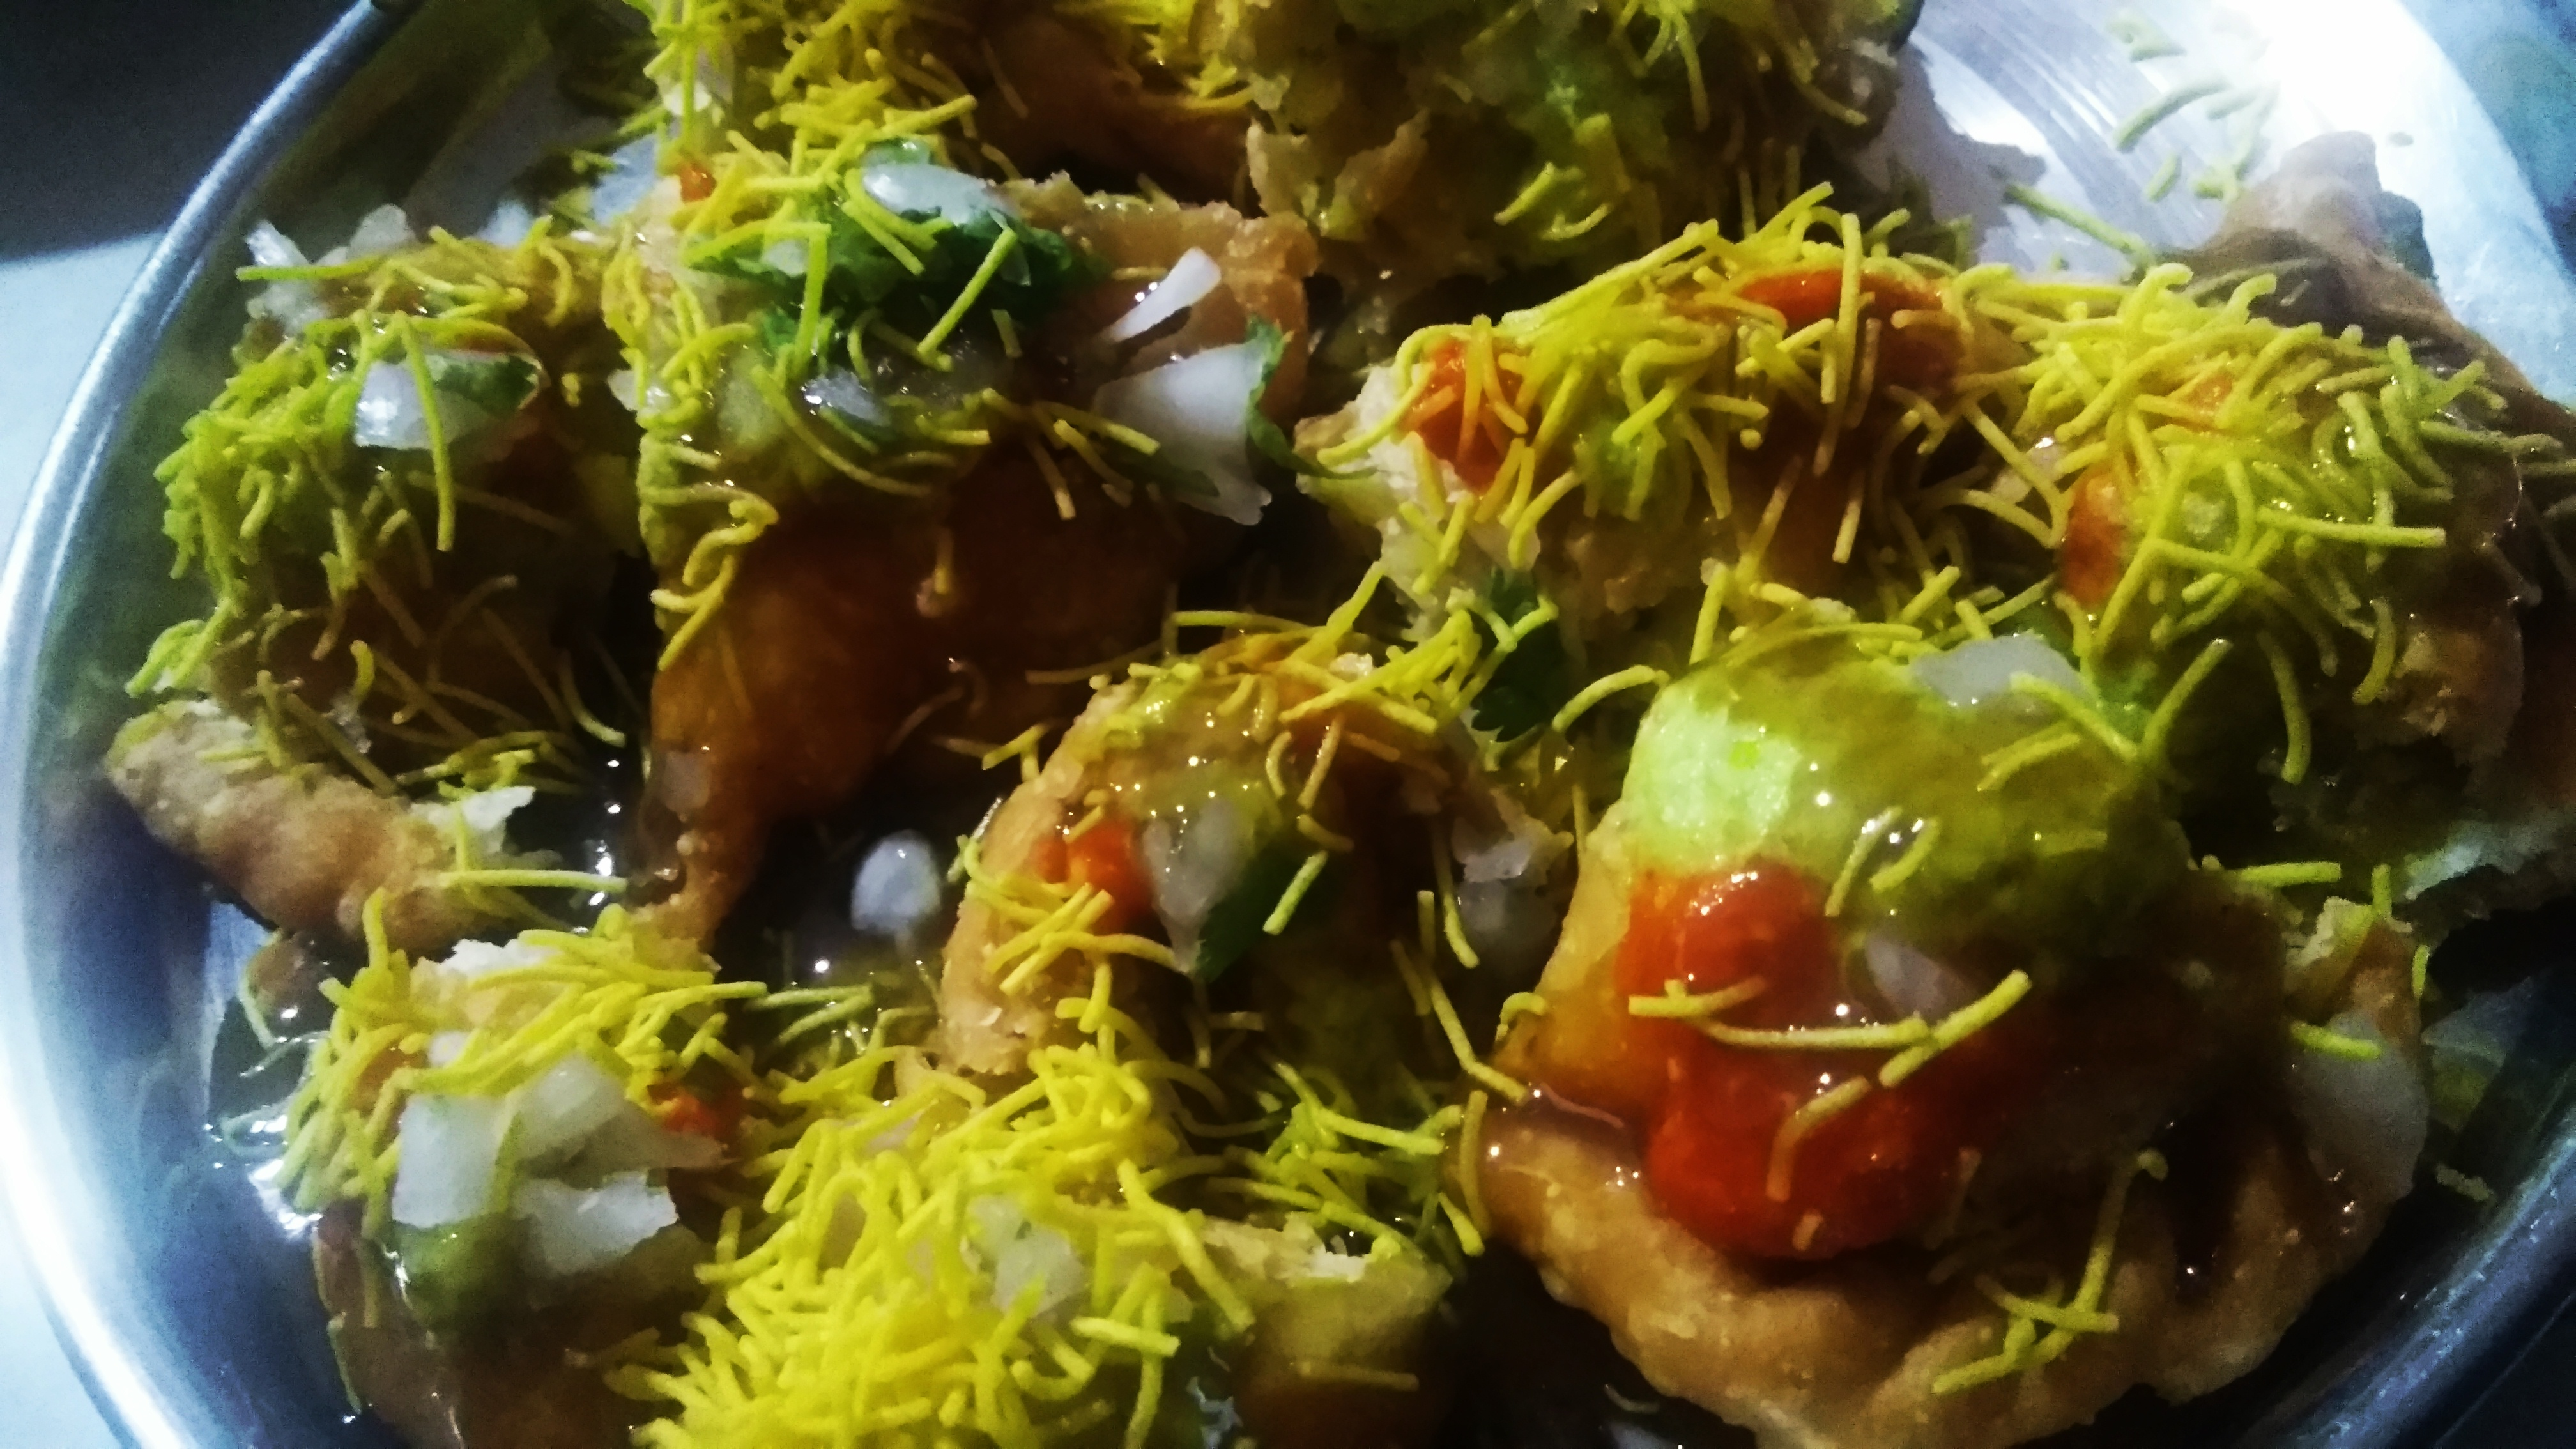food: (88, 0, 2576, 1449)
